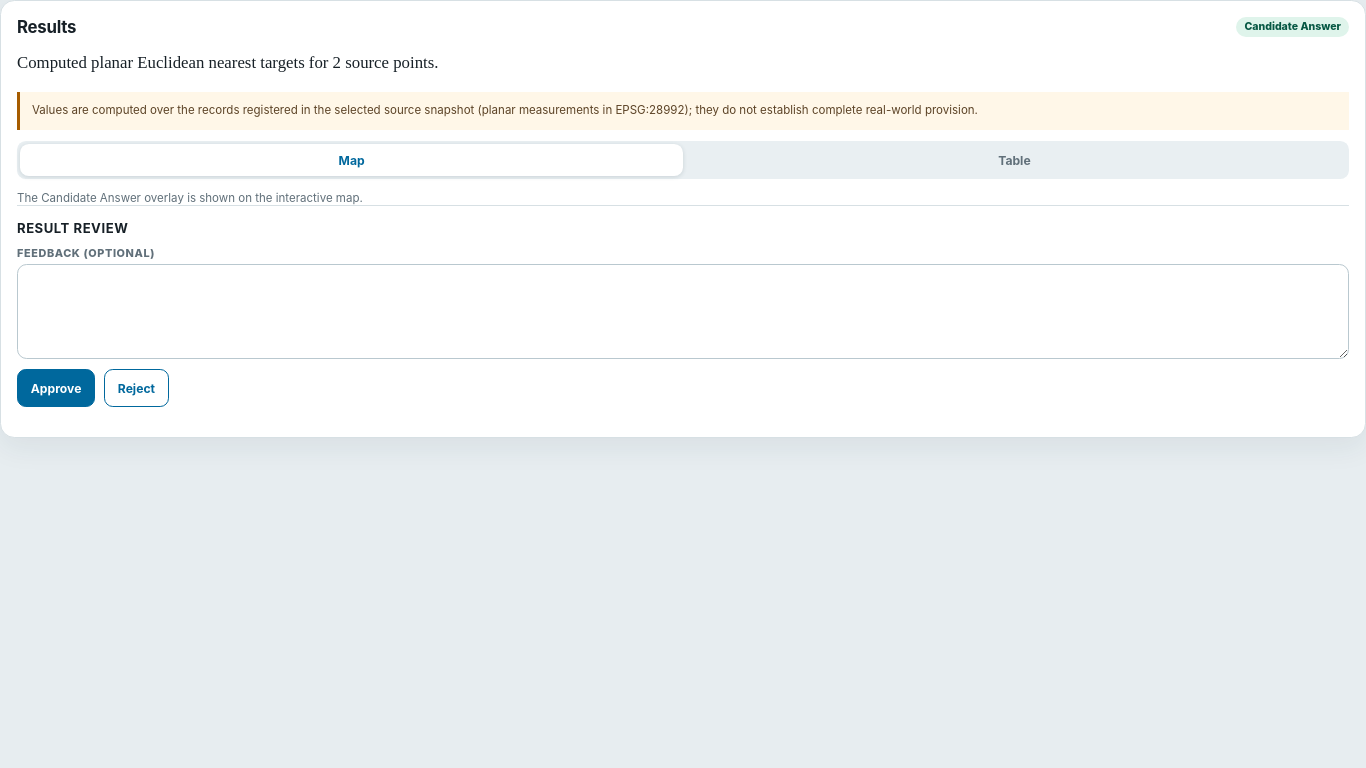
Candidate Answer review › keeps nearest source-target rows inspectable through the table toggle
The image size is (1366, 768).
Check: the text "planar measurements in EPSG:28992" is shown, box left=17, top=92, right=1349, bottom=130
Click the button "Table": (1014, 160) left=683, top=144, right=1346, bottom=176
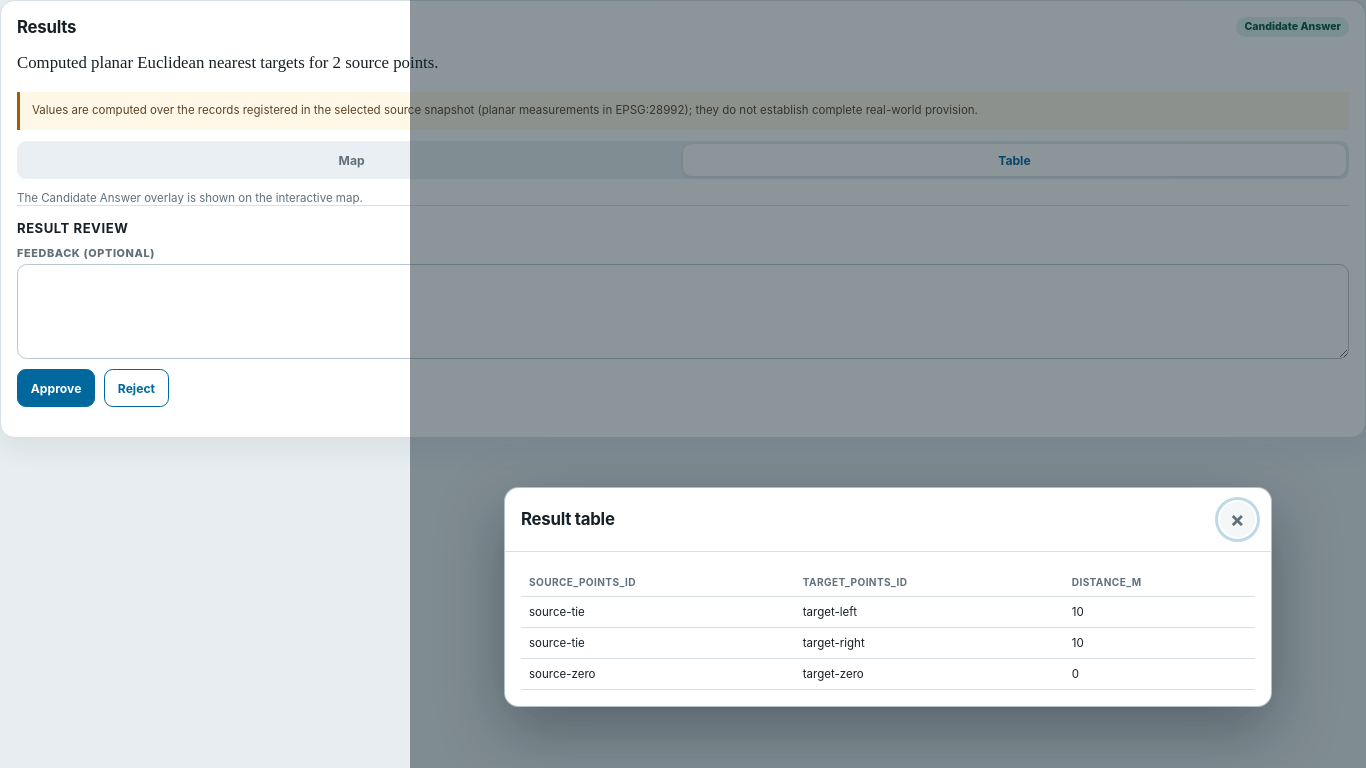
Check: the column heading "source_points_id" is shown, box left=521, top=568, right=795, bottom=596
Check: the column heading "distance_m" is shown, box left=1064, top=568, right=1255, bottom=596
Check: the number of cells "source-tie" is 2, box left=521, top=596, right=795, bottom=627; left=521, top=627, right=795, bottom=658
